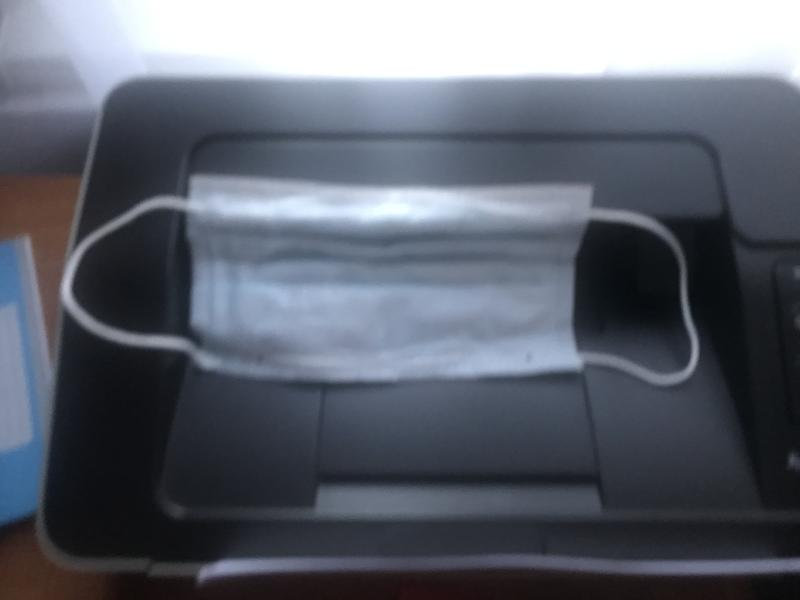medical_mask: (59, 173, 699, 389)
